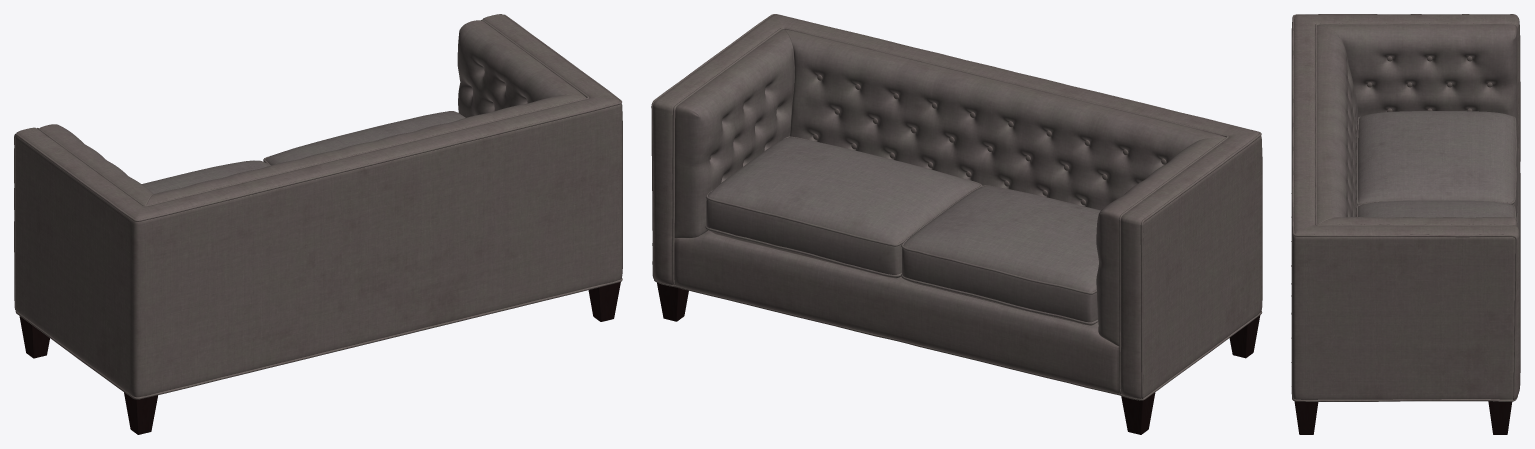
File: abo_B0831Y1G61.glb
3 renders of one model, left to right at view 1: azimuth 30°, elevation 25°; view 2: azimuth 150°, elevation 25°; view 3: azimuth 270°, elevation 25°, orthographic. The views are drawn at different scales.
Parts seen in each view (by area): view 1: RootNode; view 2: RootNode; view 3: RootNode.
Boxes of the visible parts, left/top/right/bottom form: RootNode: left=14, top=14, right=622, bottom=434; RootNode: left=651, top=14, right=1262, bottom=434; RootNode: left=1291, top=14, right=1520, bottom=434.
Size of the model in its own units: 1.78 by 0.762 by 0.7747.
1 material, 1 textured.
